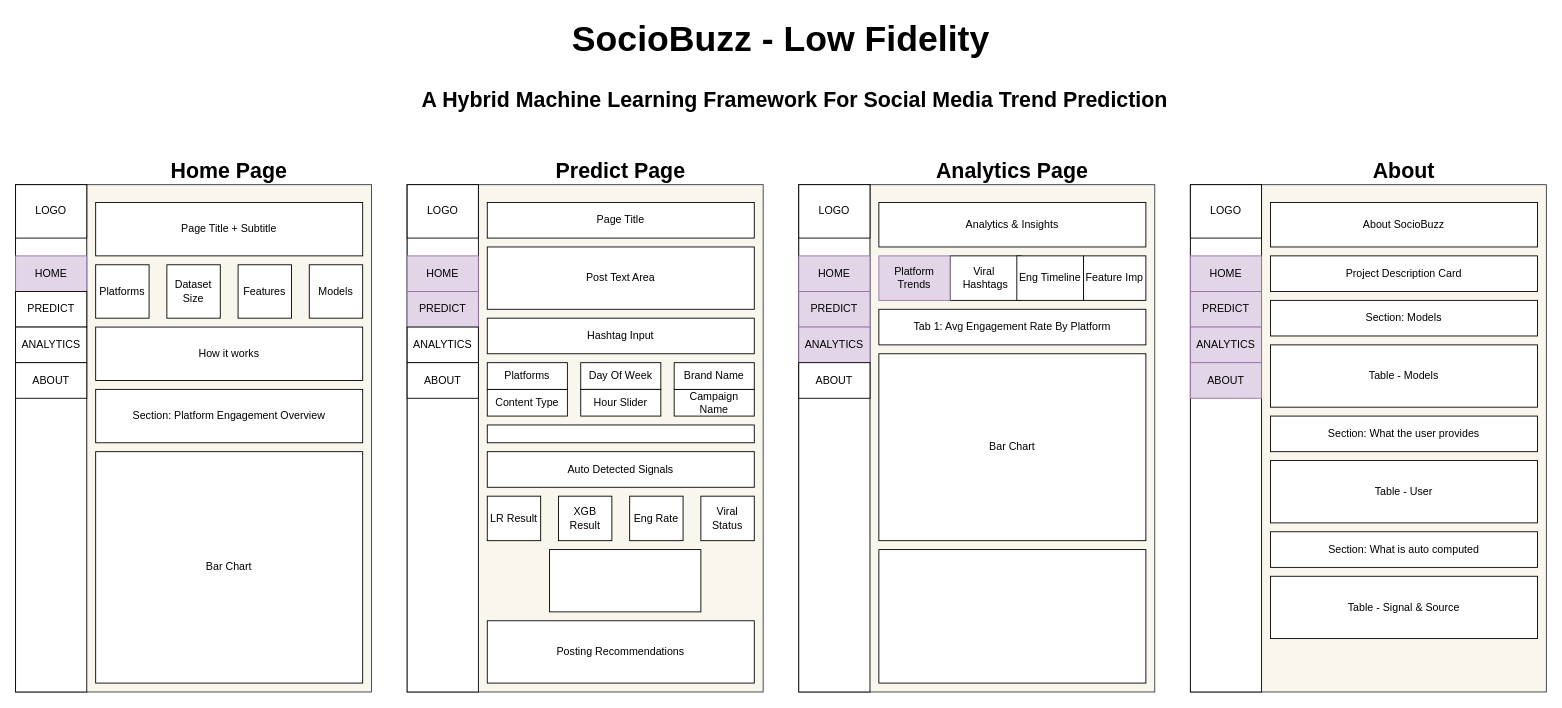
This 1562x708 diagram has some shape labels left out. Here are the shapes that lost their labels. From the top down, the centre of each, then its label:
At [620,433]: "Run Prediction Button".
At [625,580]: "Viral Probability Gauge Chart".
At [1012,616]: "Table".
